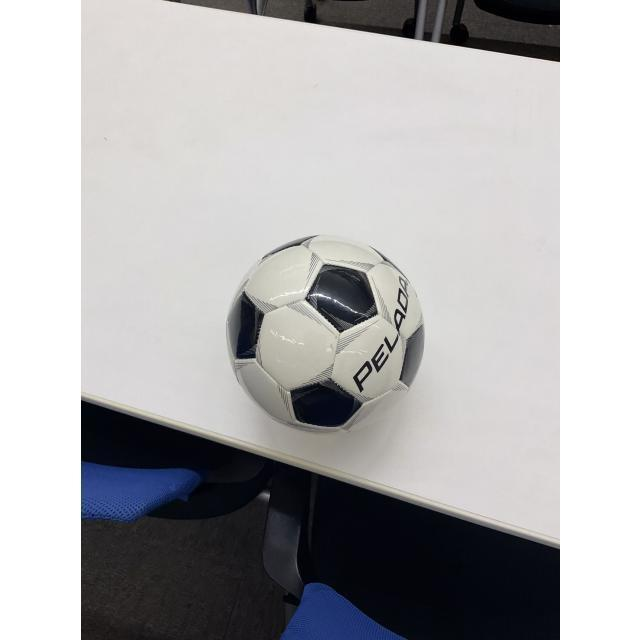Sports-Ball: (228, 235, 426, 431)
